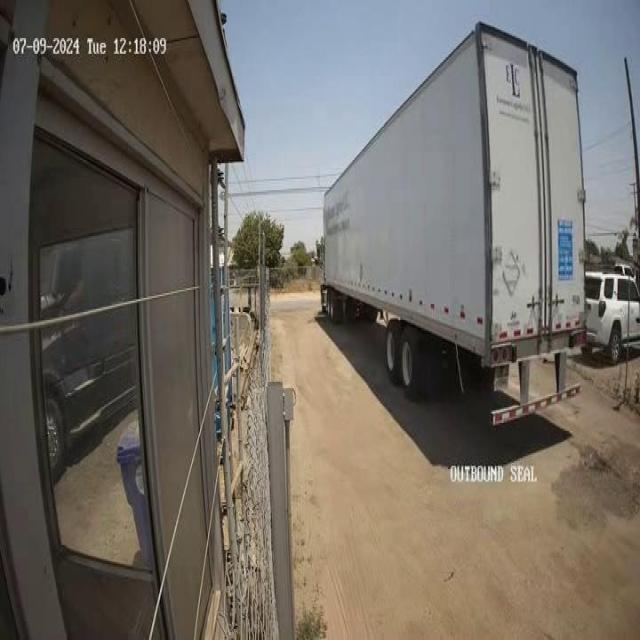CONTAINER: (320, 20, 588, 366)
